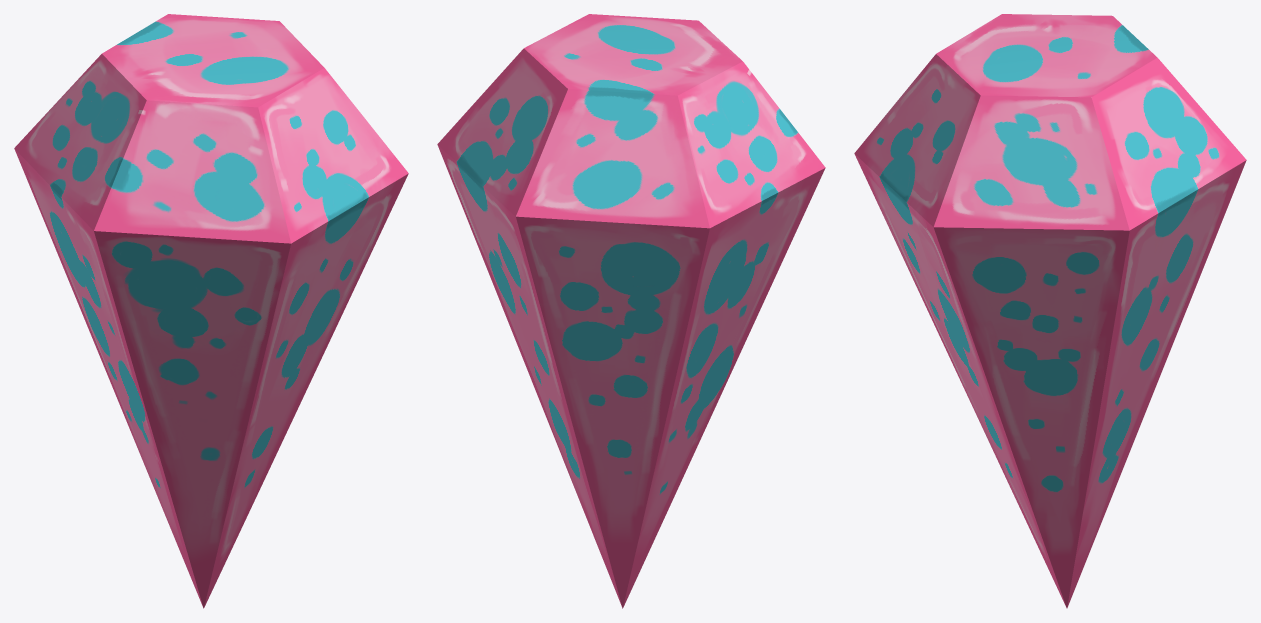
The picture shows the model from 3 angles, left to right: view 1: azimuth 30°, elevation 25°; view 2: azimuth 150°, elevation 25°; view 3: azimuth 270°, elevation 25°; orthographic projection.
Parts seen in each view (by area): view 1: group897219909; view 2: group897219909; view 3: group897219909.
Boxes of the visible parts, x1=… form: group897219909: x1=14, y1=14, x2=408, y2=608; group897219909: x1=437, y1=14, x2=825, y2=608; group897219909: x1=854, y1=14, x2=1246, y2=608.
Size of the model in its own units: 5.6 by 9.51 by 6.08.
1 material, 1 textured.
